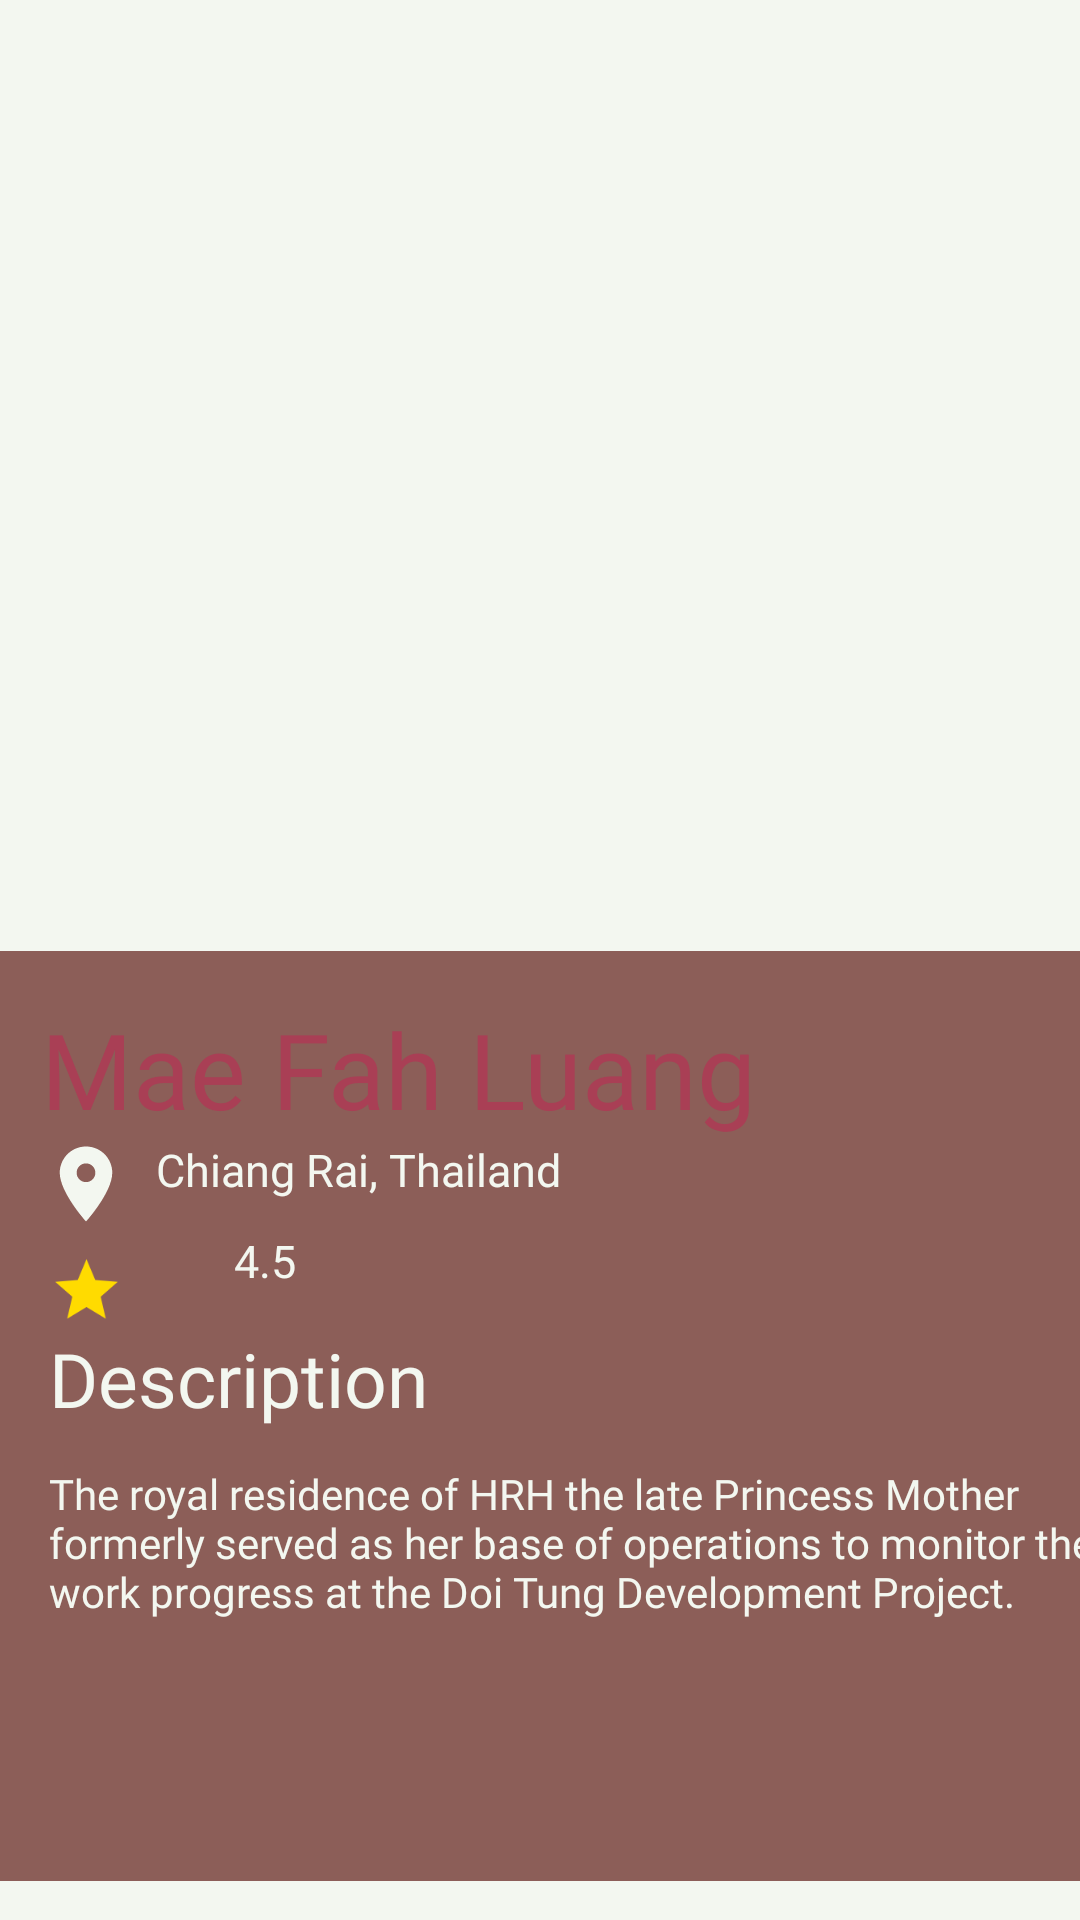

Icon click points for this 1080px×1920px phone screenshot, format [x,y]:
star: [86,1289]
